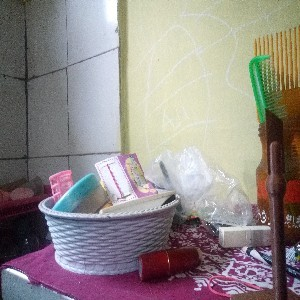cutter: (264, 107, 289, 300)
